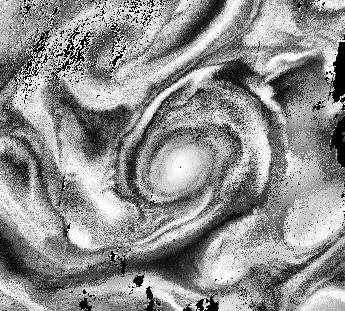CE: (113, 111, 238, 219)
